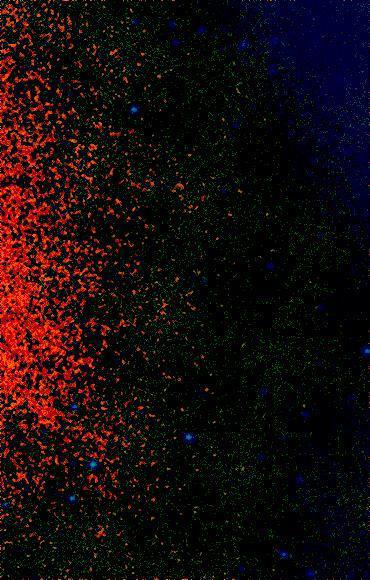star: (289, 390, 319, 420)
